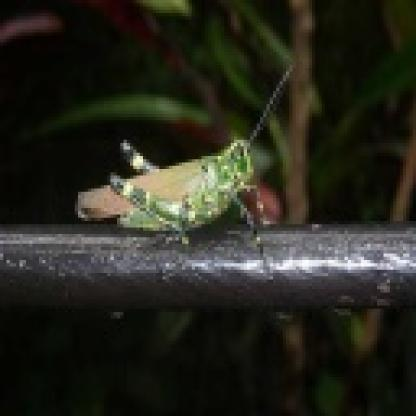grasshopper: (74, 112, 285, 270)
